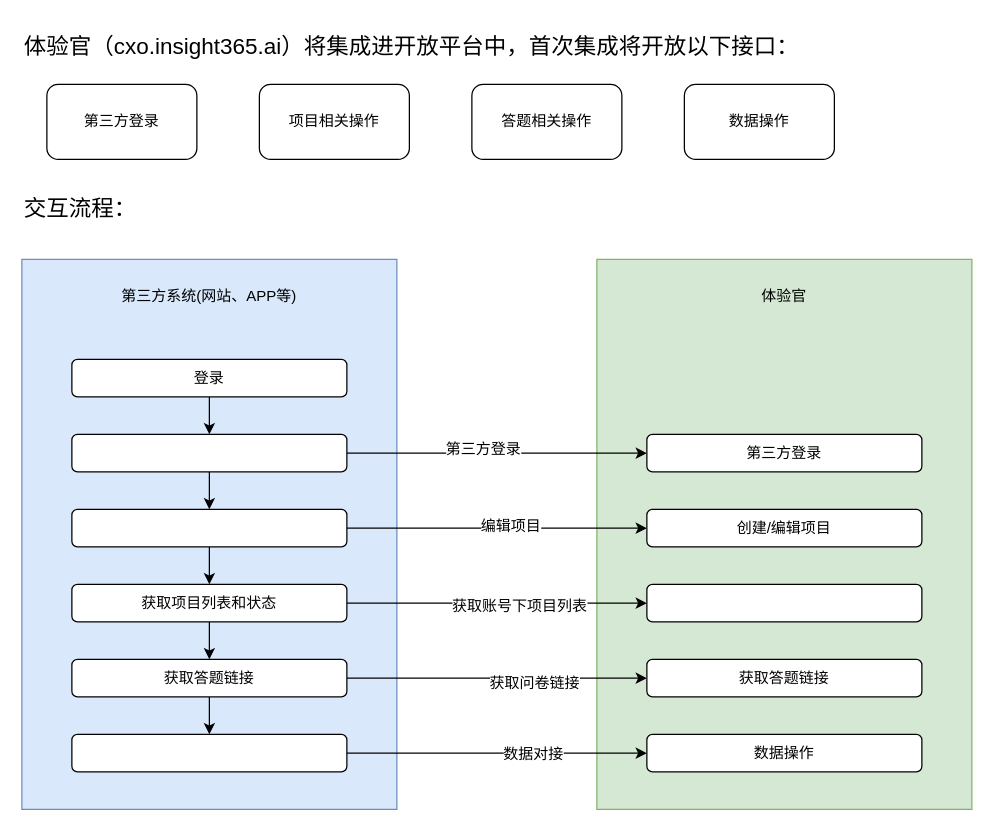
This 994x831 diagram has some shape labels left out. Each missing label, with the box of its shape:
创建、编辑、发布项目: (71, 508, 347, 547)
获取问卷答案数据: (71, 733, 347, 772)
获取项目列表: (646, 583, 922, 622)
访问体验官内模块: (71, 433, 347, 472)
